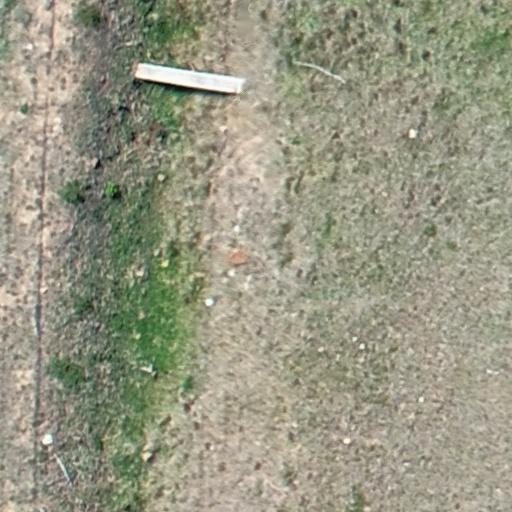stone: (157, 172, 167, 184), (204, 297, 215, 307)
